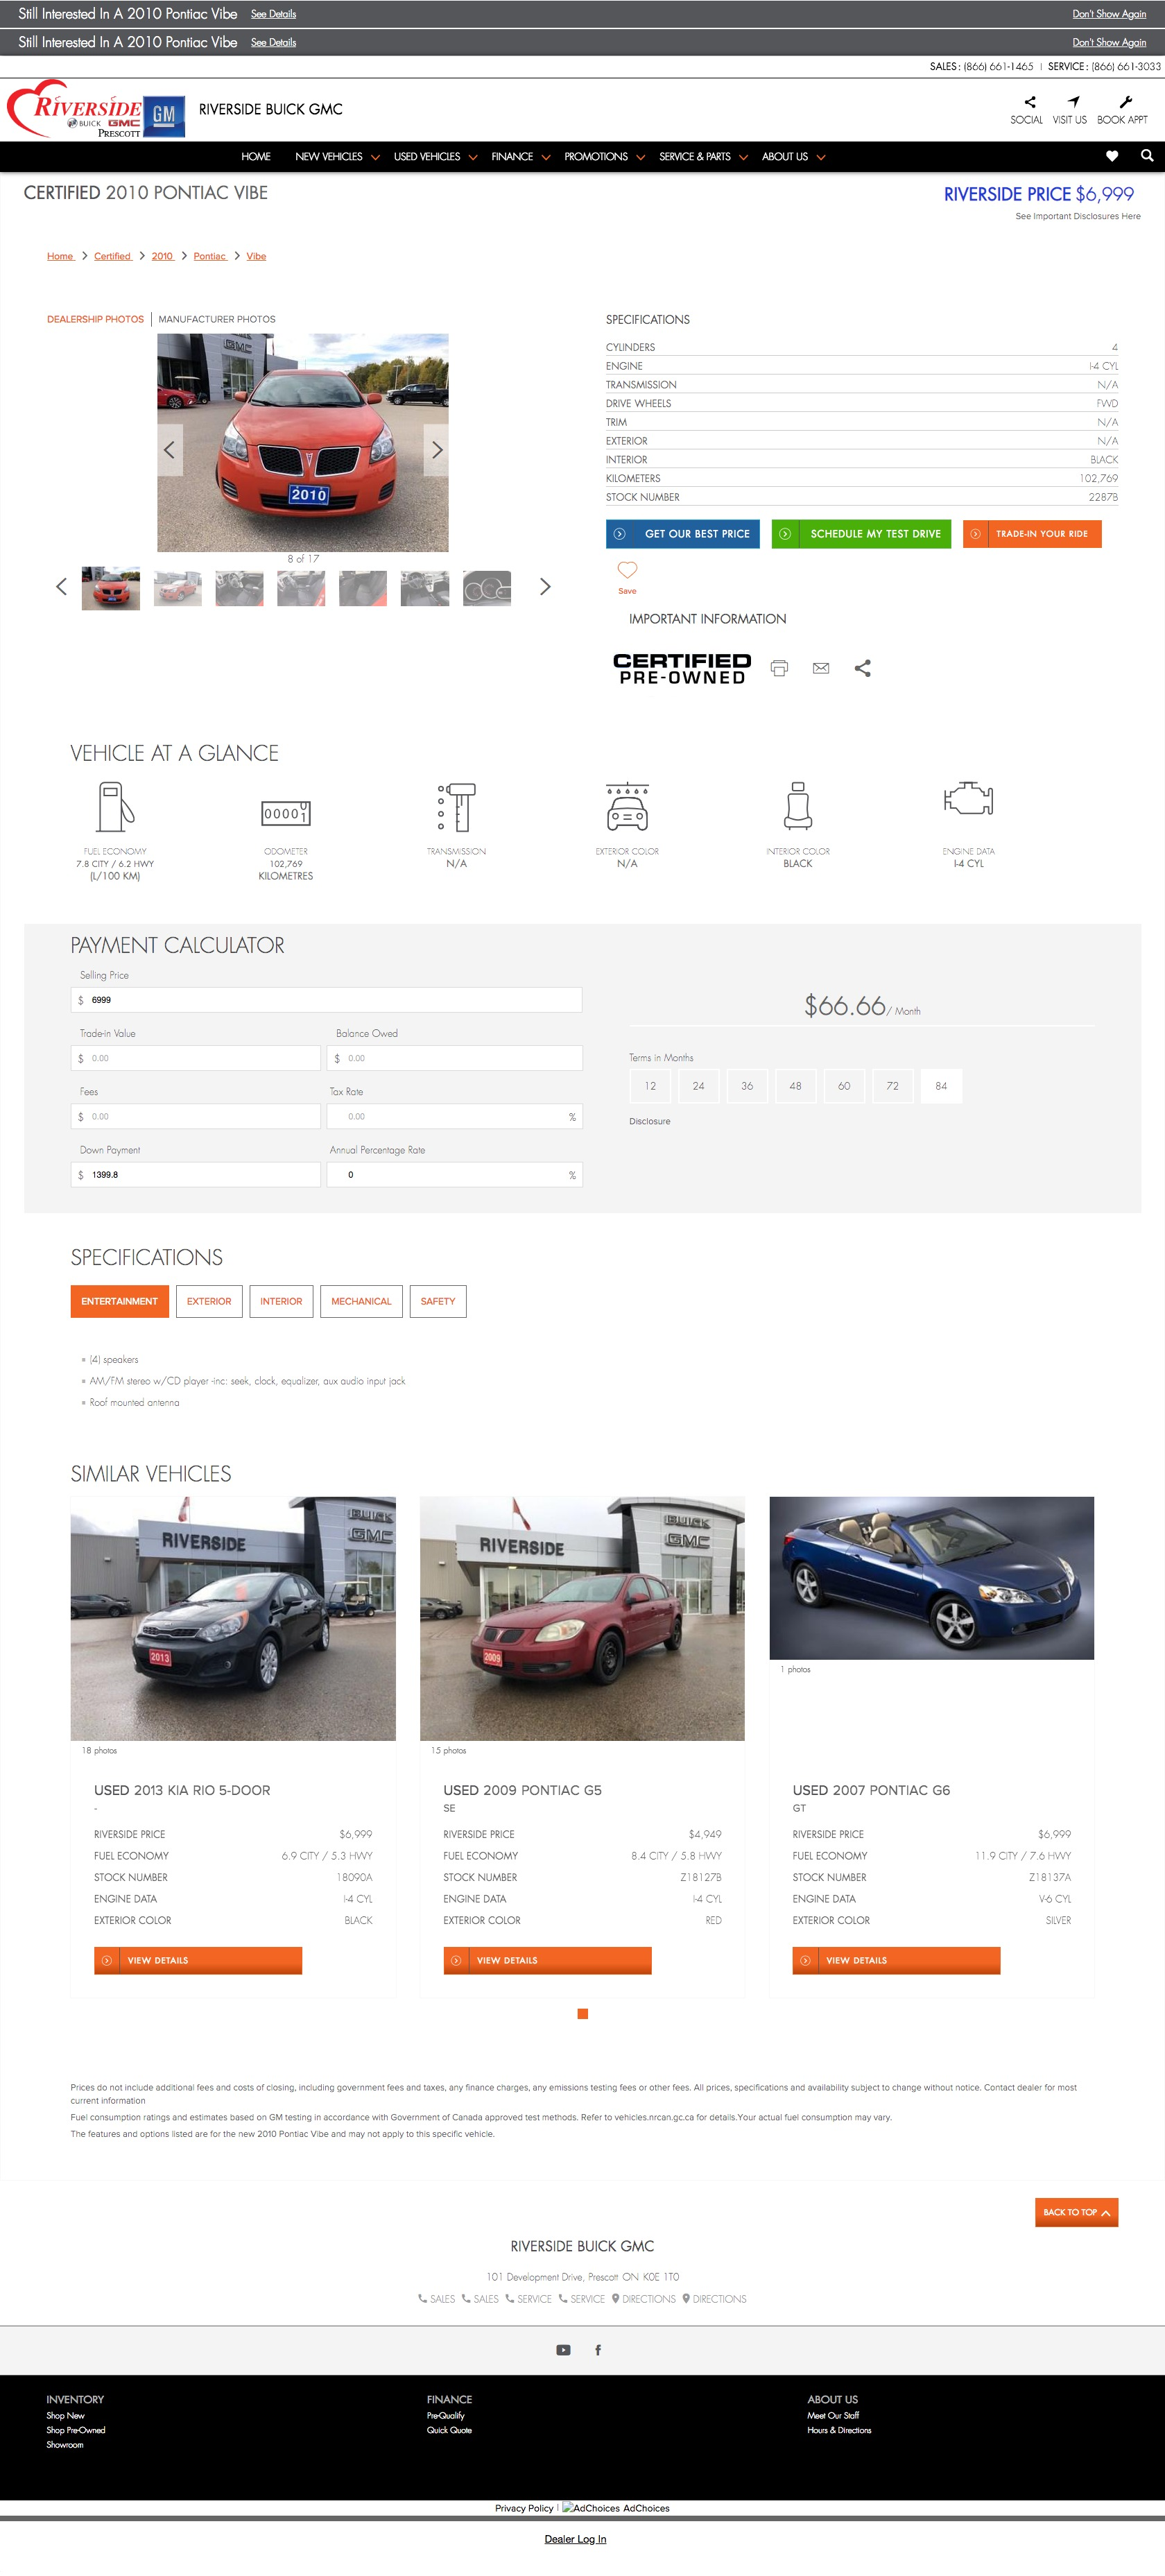car: (539, 577, 552, 596)
